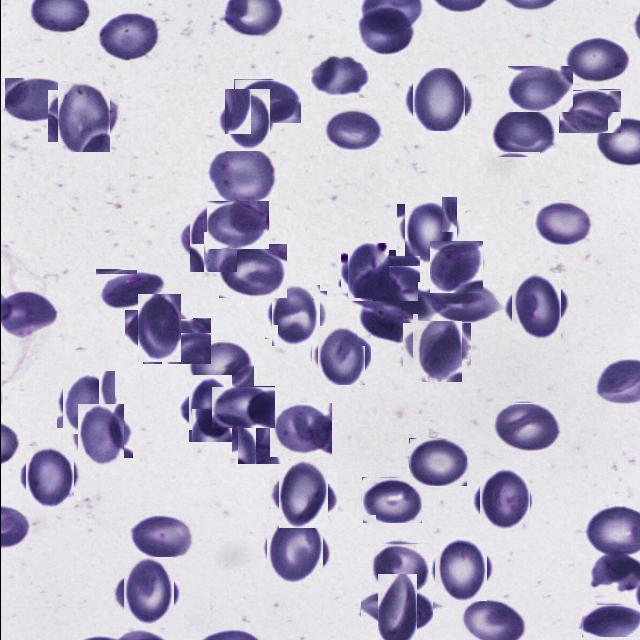red blood cell: (263, 518, 326, 582), (206, 147, 278, 203), (52, 85, 114, 147), (117, 562, 178, 623), (218, 244, 286, 298), (400, 200, 460, 260), (272, 464, 332, 524), (406, 319, 466, 378), (430, 540, 490, 599), (491, 403, 560, 454), (560, 35, 631, 84), (489, 106, 556, 157), (126, 513, 197, 561), (59, 373, 117, 431), (506, 278, 564, 336), (409, 70, 467, 128), (269, 403, 331, 457), (95, 11, 160, 62), (347, 256, 419, 302), (475, 472, 532, 529), (417, 282, 500, 321), (368, 582, 424, 638), (130, 300, 186, 356), (142, 318, 210, 364), (186, 341, 253, 387), (182, 381, 237, 437), (234, 406, 288, 462), (22, 448, 76, 504), (507, 66, 572, 112), (206, 201, 268, 249), (268, 288, 322, 343), (233, 79, 300, 123), (314, 329, 368, 383), (74, 408, 128, 462), (220, 92, 274, 146), (356, 8, 416, 56), (371, 542, 428, 592), (95, 269, 164, 310), (408, 438, 466, 486), (4, 78, 67, 122), (361, 477, 421, 523), (429, 241, 482, 293), (558, 90, 620, 134), (210, 386, 274, 428), (532, 201, 593, 245), (310, 56, 369, 100), (323, 108, 383, 150), (357, 301, 412, 346), (344, 247, 392, 296), (580, 604, 640, 637)
trophozoite: (184, 210, 242, 268)
